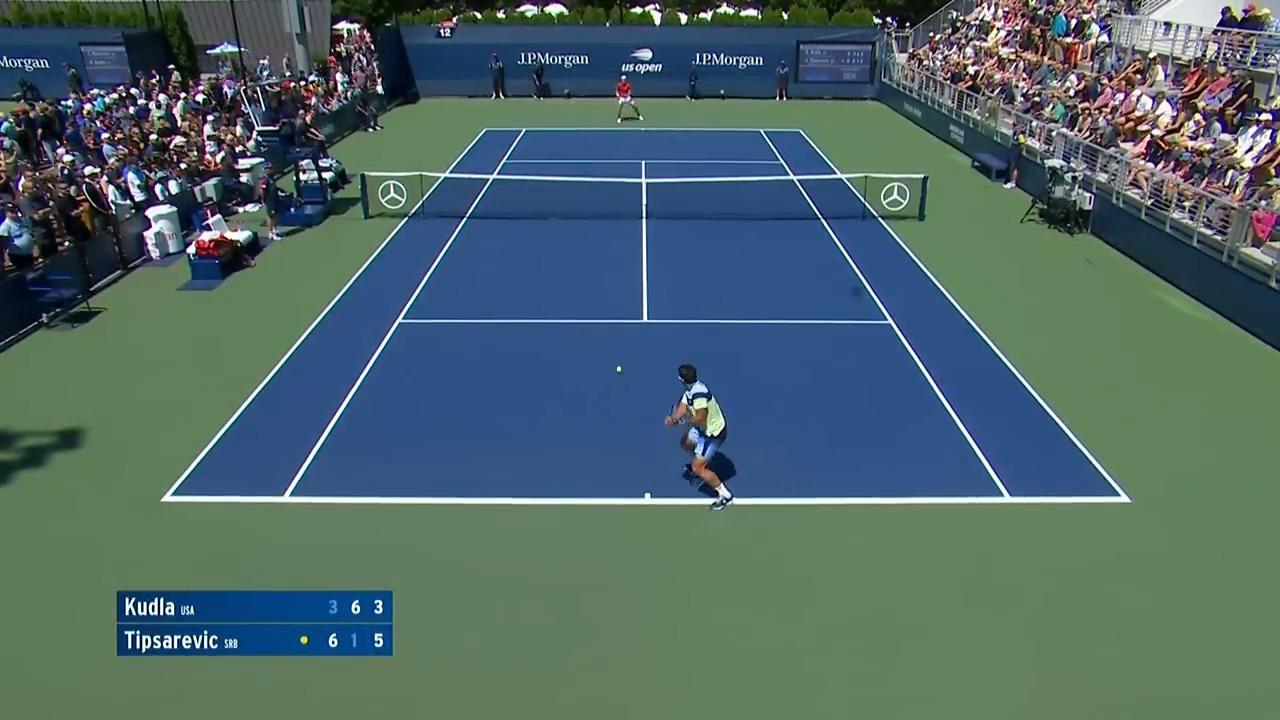tennis ball: (617, 365, 624, 371)
